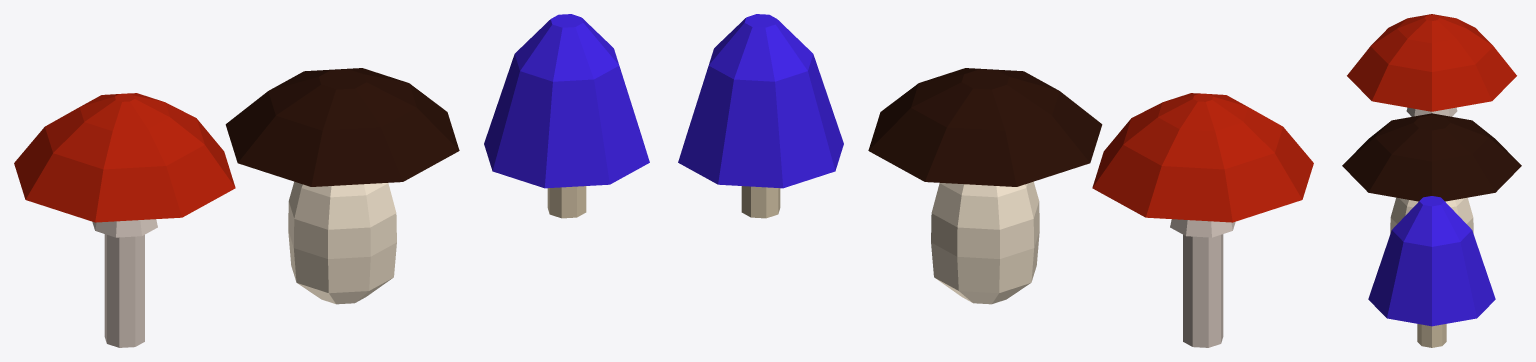
The model's file is AllMash.fbx.
The picture shows the model from 3 angles, left to right: view 1: azimuth 30°, elevation 25°; view 2: azimuth 150°, elevation 25°; view 3: azimuth 270°, elevation 25°; orthographic projection. The views are drawn at different scales.
Visible parts, largest first — view 1: Cylinder.001, Cylinder.002, Cylinder; view 2: Cylinder.001, Cylinder.002, Cylinder; view 3: Cylinder.001, Cylinder, Cylinder.002.
Part boxes in pixels (x1=…): Cylinder.001: x1=225, y1=68, x2=459, y2=304; Cylinder.002: x1=14, y1=93, x2=235, y2=347; Cylinder: x1=484, y1=14, x2=649, y2=218; Cylinder.001: x1=868, y1=68, x2=1102, y2=304; Cylinder.002: x1=1092, y1=93, x2=1313, y2=347; Cylinder: x1=678, y1=14, x2=843, y2=218; Cylinder.001: x1=1342, y1=113, x2=1521, y2=233; Cylinder: x1=1368, y1=196, x2=1495, y2=347; Cylinder.002: x1=1347, y1=14, x2=1516, y2=116.
Size of the model in its own units: 145 by 164 by 424.
